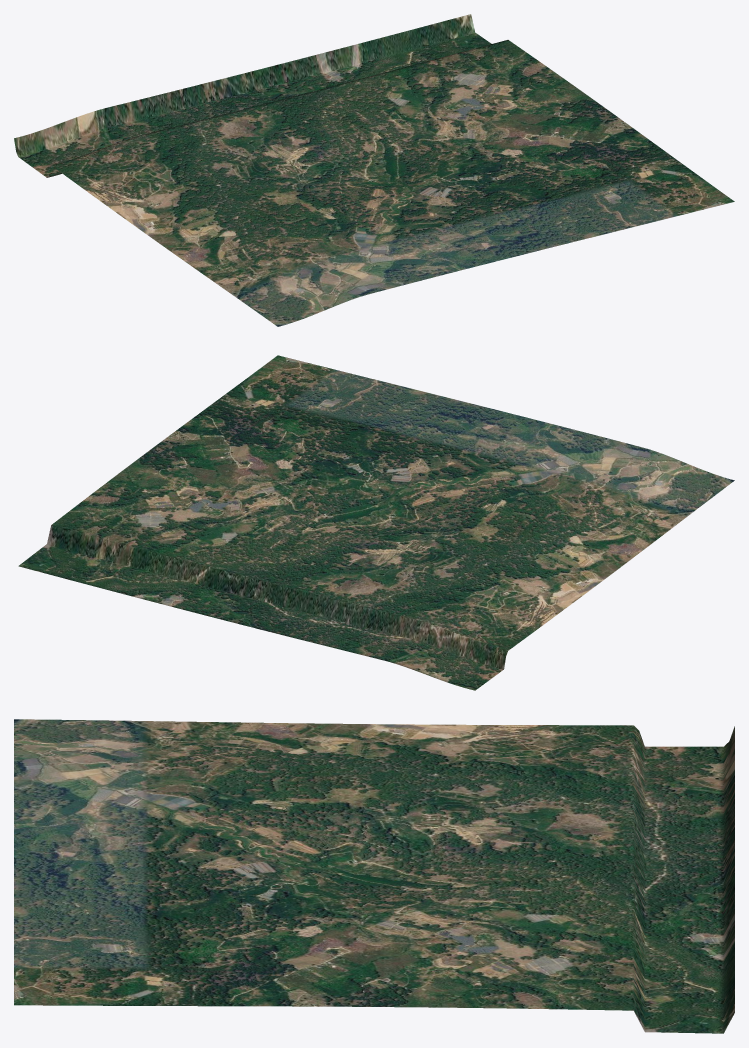
Rendered from terrain_real_T_E04_S02.glb.
3 renders of one model, top to bottom at view 1: azimuth 30°, elevation 25°; view 2: azimuth 150°, elevation 25°; view 3: azimuth 270°, elevation 25°, orthographic. The views are drawn at different scales.
Visible parts, largest first — view 1: Terrain_Real_DEM_T_E04_S02; view 2: Terrain_Real_DEM_T_E04_S02; view 3: Terrain_Real_DEM_T_E04_S02.
Boxes of the visible parts, x1=… form: Terrain_Real_DEM_T_E04_S02: x1=14, y1=14, x2=734, y2=326; Terrain_Real_DEM_T_E04_S02: x1=18, y1=355, x2=734, y2=690; Terrain_Real_DEM_T_E04_S02: x1=14, y1=719, x2=734, y2=1033.
Bounding box in the file's own units: 2000 × 141 × 2000.
Materials: 1 (1 with a texture image).
